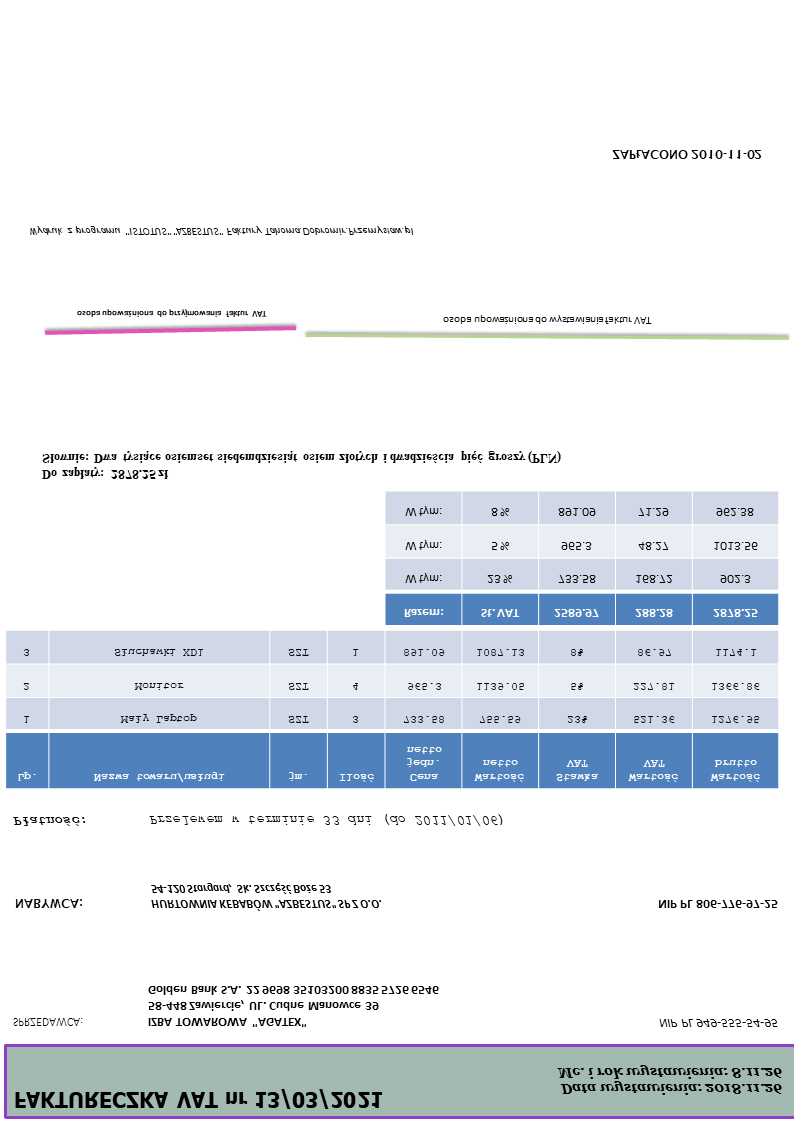Table: (4, 628, 780, 791), (384, 490, 779, 626)
TextBox: (39, 448, 564, 483), (145, 982, 441, 1030), (11, 1086, 384, 1112), (553, 1063, 783, 1098), (149, 882, 384, 911), (27, 223, 416, 239), (148, 811, 506, 828), (440, 313, 652, 327), (74, 307, 267, 321), (609, 147, 762, 164), (655, 897, 778, 911), (657, 1016, 779, 1030), (11, 813, 88, 830), (11, 1014, 84, 1031), (12, 896, 83, 912)
